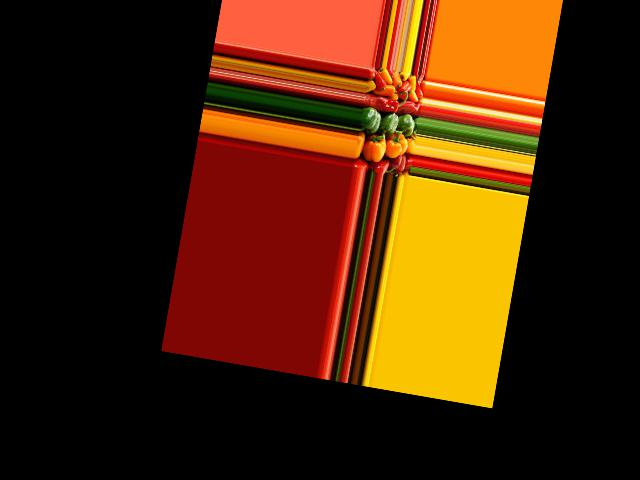bell_pepper: (370, 69, 389, 90)
